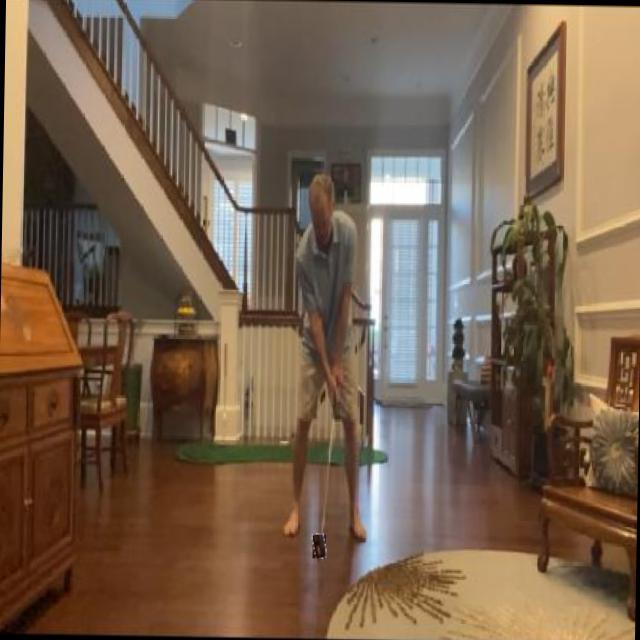club head: (312, 534, 325, 558)
